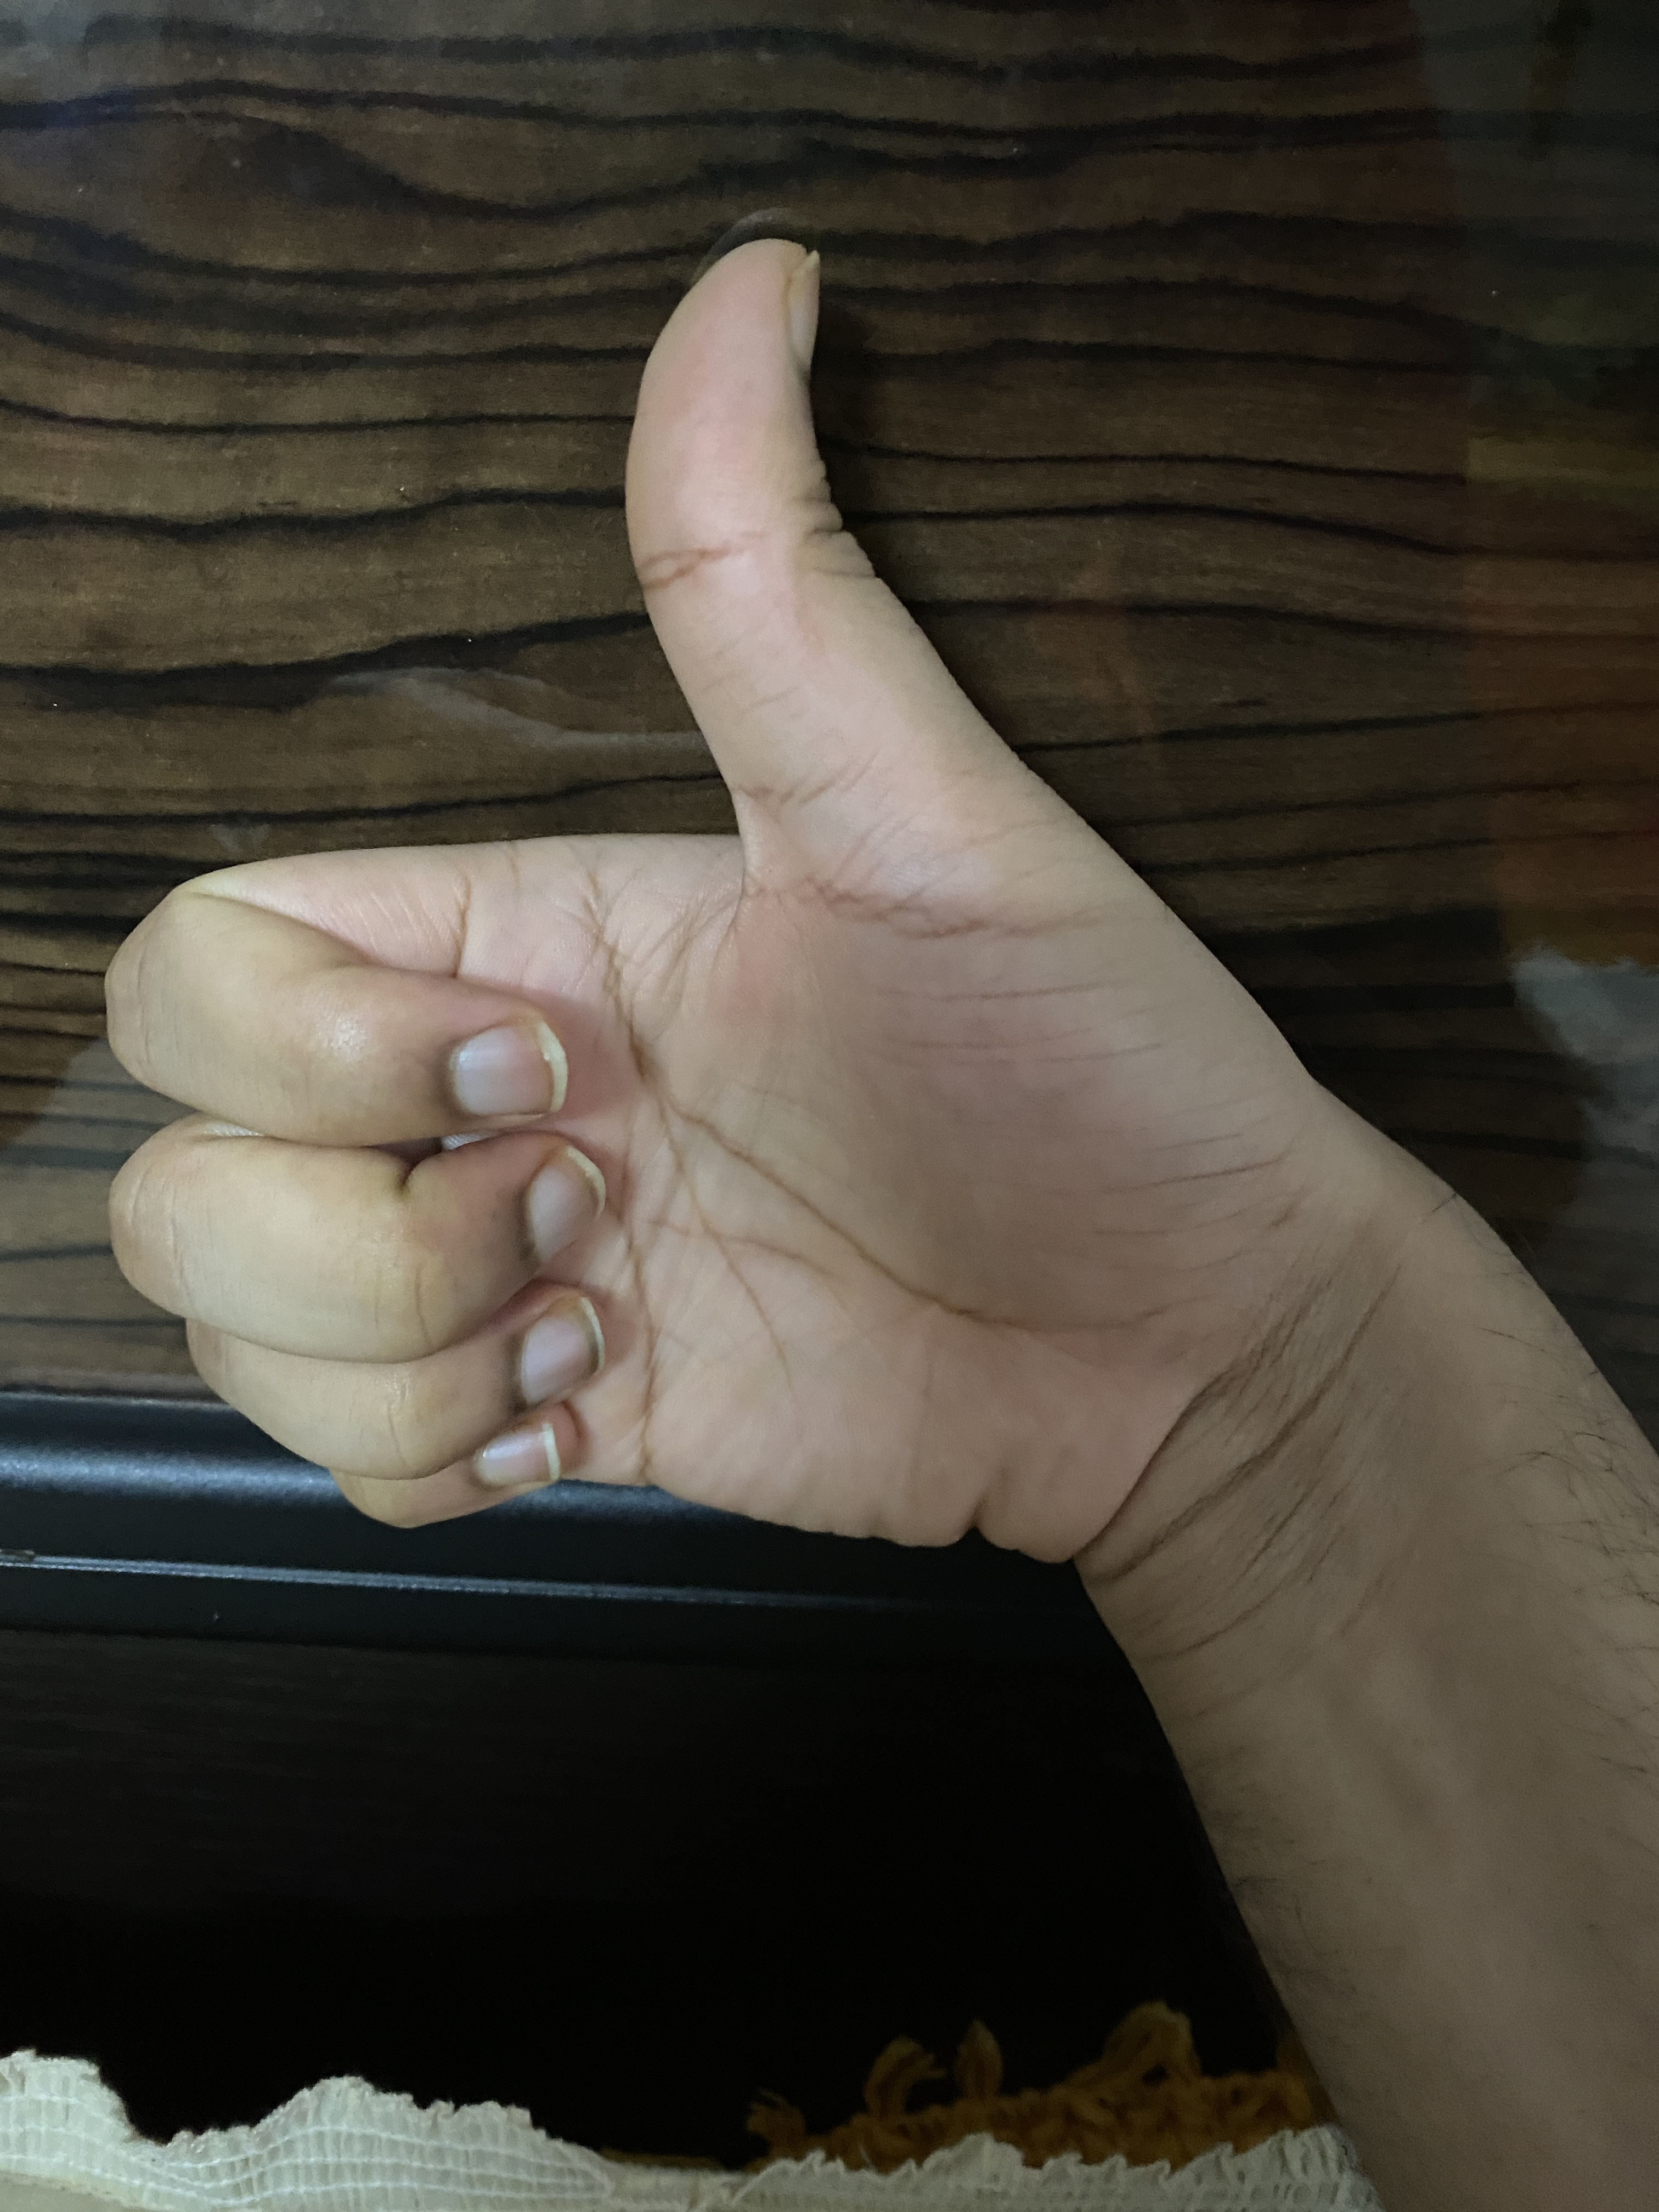up: (94, 138, 1659, 1724)
